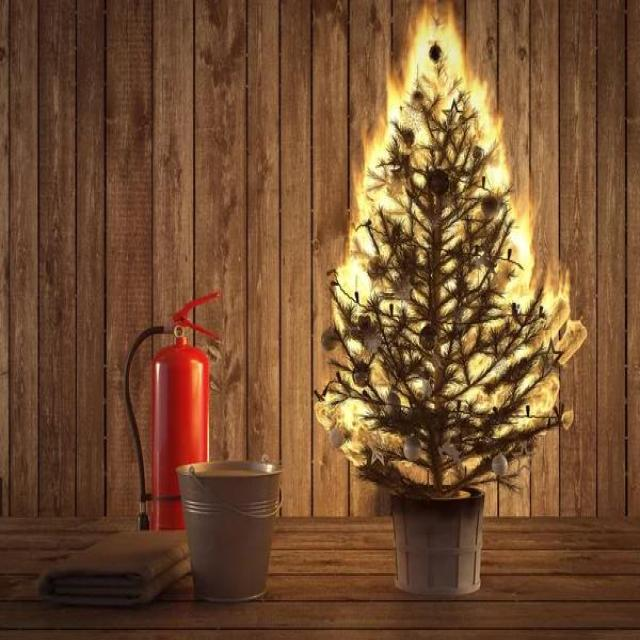fire_extinguisher: (123, 284, 224, 535)
